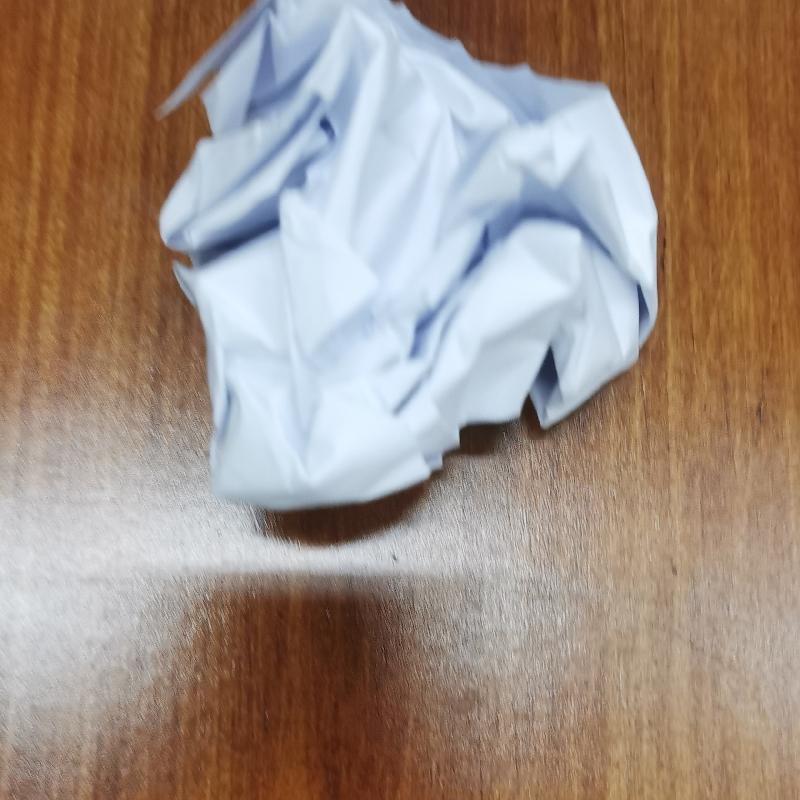spitball: (153, 4, 672, 526)
